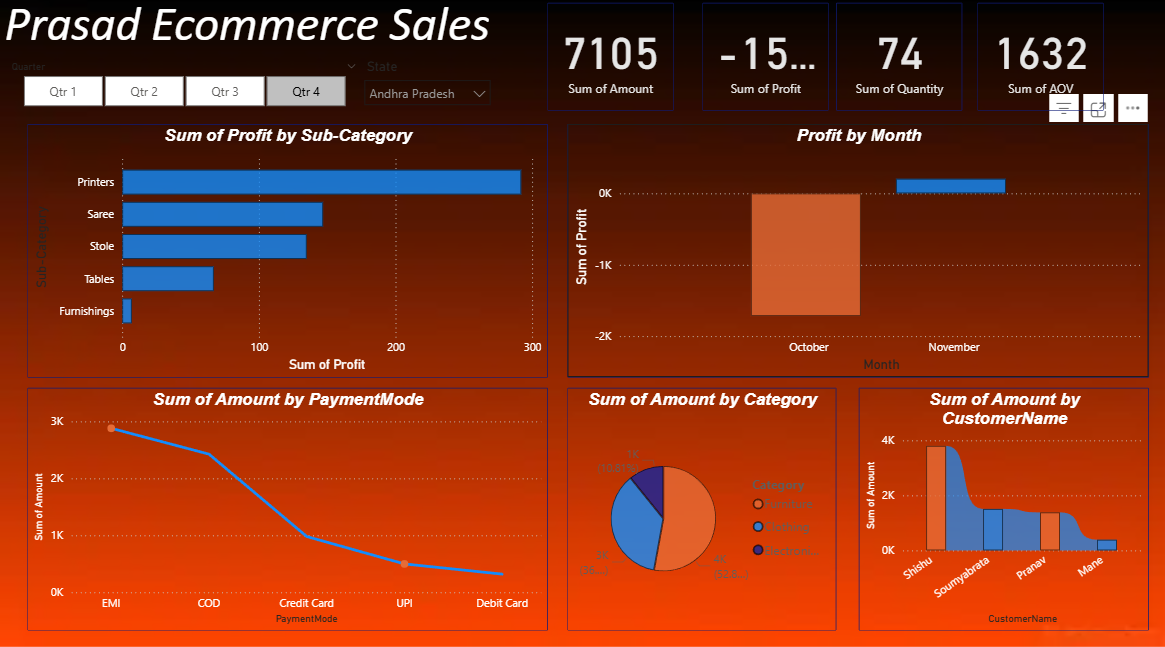

The dashboard page shown, as its layout file describes it:
{"tool":"powerbi","page":{"name":"Page 1","canvas":[1280,720],"ordinal":0},"visuals":[{"type":"textbox","title":"Prasad Ecommerce Sales","box":[0,0,548.9,68.6],"z":0},{"type":"clusteredColumnChart","title":"Profit by Month","fields":{"Category":["Orders.Order Date.Variation.Date Hierarchy.Month"],"Y":["Details.Profit"]},"box":[623,142.7,638.1,278.6],"z":1000},{"type":"barChart","fields":{"Category":["Details.Sub-Category"],"Y":["Details.Profit"]},"box":[30.2,142.7,570.8,278.6],"z":2000},{"type":"lineChart","fields":{"Category":["Details.PaymentMode"],"Y":["Details.Amount"]},"box":[30.2,432.2,570.8,266.2],"z":3000},{"type":"pieChart","fields":{"Category":["Details.Category"],"Y":["Details.Amount"]},"box":[623,432.2,295,266.2],"z":4000},{"type":"ribbonChart","fields":{"Category":["Orders.CustomerName"],"Y":["Details.Amount"]},"box":[942.7,432.2,318.4,266.2],"z":5000},{"type":"card","fields":{"Values":["Details.Amount"]},"box":[601,9.6,138.6,118],"z":6000},{"type":"card","fields":{"Values":["Details.AOV"]},"box":[1073.1,9.6,138.6,118],"z":7000},{"type":"card","fields":{"Values":["Details.Quantity"]},"box":[918,9.6,138.6,118],"z":8000},{"type":"card","fields":{"Values":["Details.Profit"]},"box":[771.2,9.6,138.6,118],"z":9000},{"type":"slicer","fields":{"Values":["Orders.Order Date.Variation.Date Hierarchy.Quarter"]},"box":[0,68.6,403.4,61.7],"z":10000},{"type":"slicer","fields":{"Values":["Orders.State"]},"box":[389.7,65.9,159.2,61.7],"z":11000}]}

Visuals, with their boxes in screenshot pixels (x1, y1, x2, y2), scaled from the page's 1280x720 canvas onto the 1165x647 screenshot:
"Prasad Ecommerce Sales" textbox: detection(0, 0, 500, 62)
"Profit by Month" clusteredColumnChart: detection(567, 128, 1148, 379)
barChart - Details.Sub-Category x Details.Profit: detection(27, 128, 547, 379)
lineChart - Details.PaymentMode x Details.Amount: detection(27, 388, 547, 628)
pieChart - Details.Category x Details.Amount: detection(567, 388, 836, 628)
ribbonChart - Orders.CustomerName x Details.Amount: detection(858, 388, 1148, 628)
card - Details.Amount: detection(547, 9, 673, 115)
card - Details.AOV: detection(977, 9, 1103, 115)
card - Details.Quantity: detection(836, 9, 962, 115)
card - Details.Profit: detection(702, 9, 828, 115)
slicer - Orders.Order Date.Variation.Date Hierarchy.Quarter: detection(0, 62, 367, 117)
slicer - Orders.State: detection(355, 59, 500, 115)
